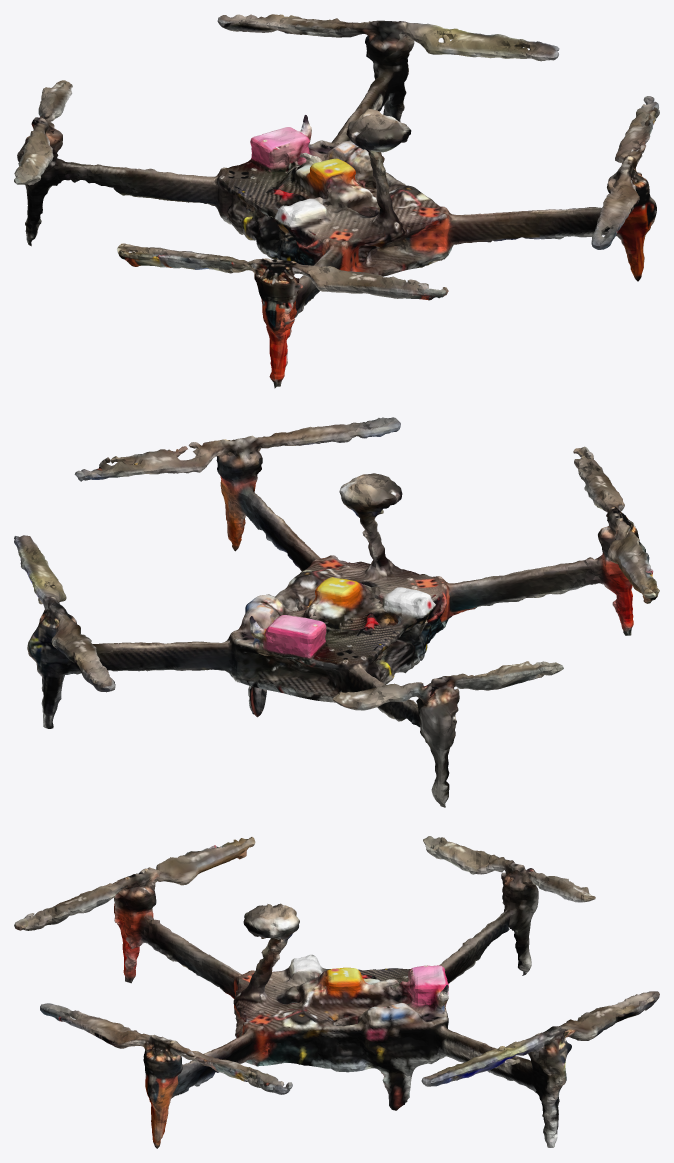
File: demo drone.fbx
3 views of the same model, one above another, from view 1: azimuth 30°, elevation 25°; view 2: azimuth 150°, elevation 25°; view 3: azimuth 270°, elevation 25° (orthographic). The views are drawn at different scales.
Visible parts, largest first — view 1: Mesh_0.001; view 2: Mesh_0.001; view 3: Mesh_0.001.
Boxes of the visible parts, box(x1,y1,x2,y2) form: Mesh_0.001: box(14, 14, 659, 388); Mesh_0.001: box(14, 417, 659, 807); Mesh_0.001: box(14, 836, 659, 1148).
Bounding box in the file's own units: 71.26 × 24.23 × 77.16.
1 material, 1 textured.
